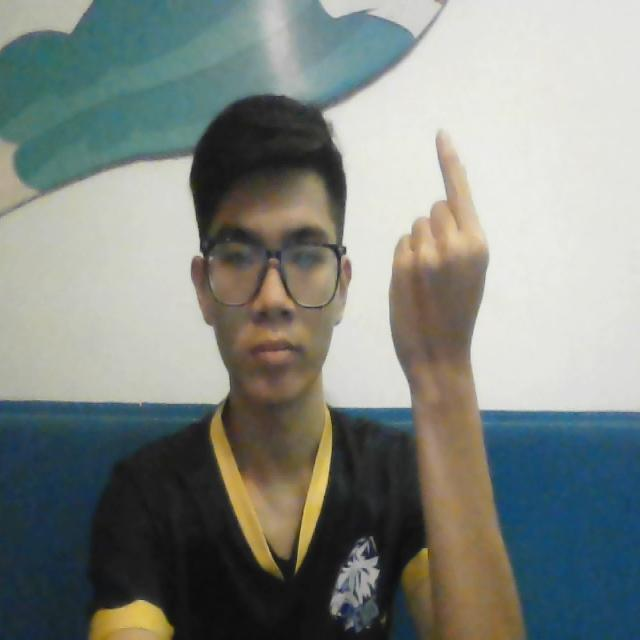G: (381, 123, 496, 402)
